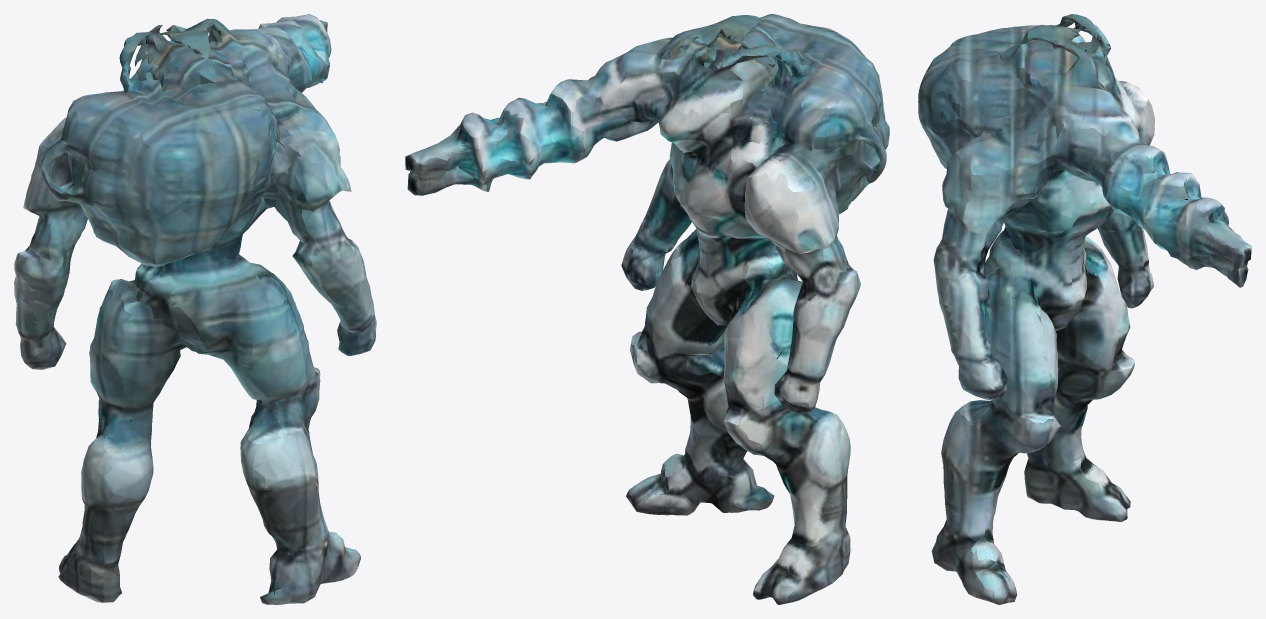
File: nexus_railgun_mech.glb
The picture shows the model from 3 angles, left to right: view 1: azimuth 30°, elevation 25°; view 2: azimuth 150°, elevation 25°; view 3: azimuth 270°, elevation 25°; orthographic projection. The views are drawn at different scales.
Parts seen in each view (by area): view 1: geometry_0; view 2: geometry_0; view 3: geometry_0.
Part boxes in pixels (x1=…): geometry_0: x1=14, y1=14, x2=376, y2=604; geometry_0: x1=405, y1=14, x2=889, y2=604; geometry_0: x1=918, y1=14, x2=1251, y2=604.
Size of the model in its own units: 0.6985 by 0.9422 by 0.5508.
1 material, 1 textured.
